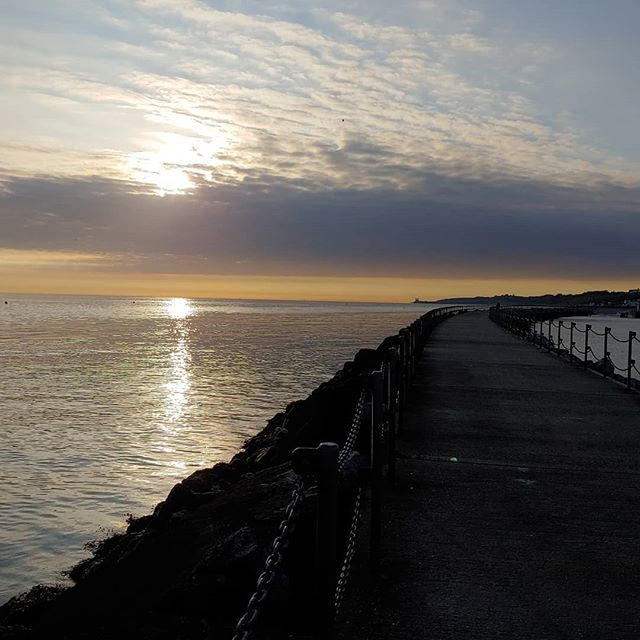sea: (1, 297, 398, 553)
sky: (9, 1, 640, 291)
